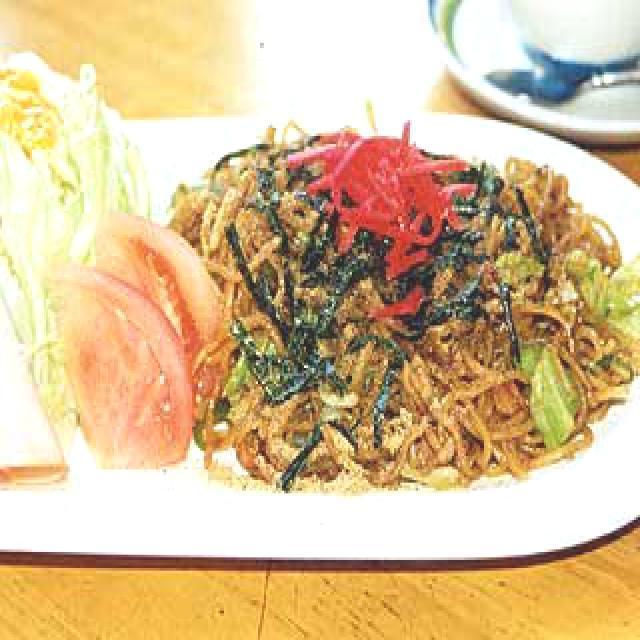fried-noodle: (212, 117, 638, 515)
